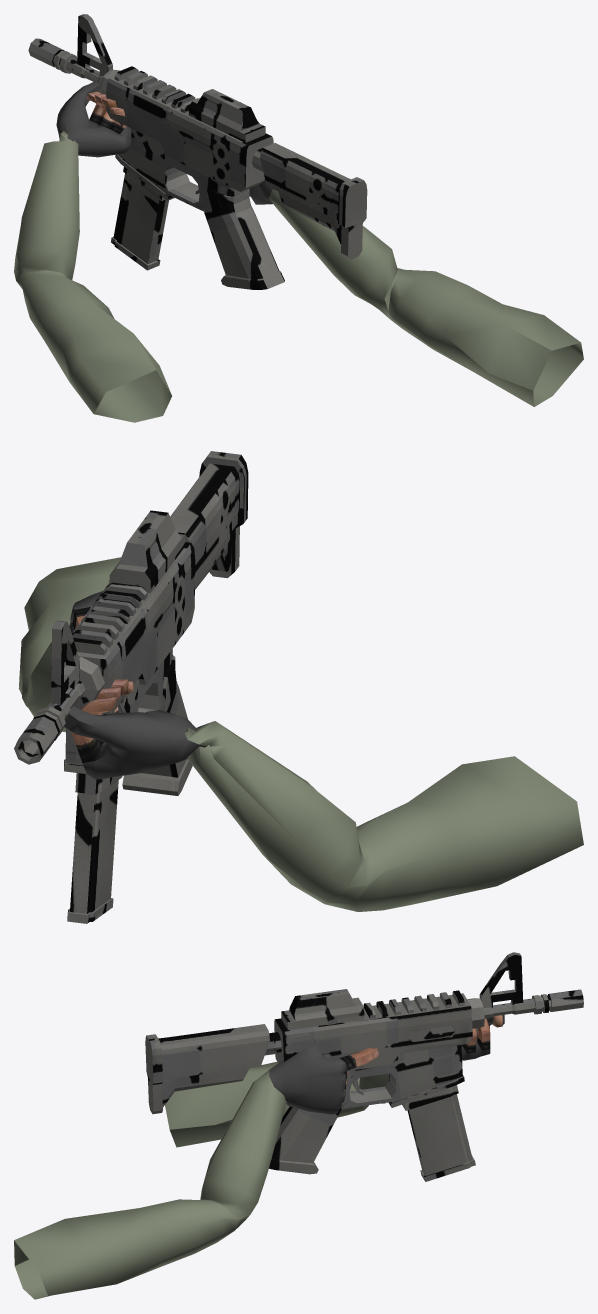
Rendered from gun_m4.glb.
3 views of the same model, one above another, from view 1: azimuth 30°, elevation 25°; view 2: azimuth 150°, elevation 25°; view 3: azimuth 270°, elevation 25° (orthographic). The views are drawn at different scales.
Parts seen in each view (by area): view 1: body_sleeve, body_QUATP, mag_QUATP, body_glove, body_ARMS; view 2: body_sleeve, body_QUATP, body_glove, mag_QUATP, body_ARMS; view 3: body_QUATP, body_sleeve, mag_QUATP, body_glove, body_ARMS.
Part boxes in pixels (x1,y1,x2,y2): body_sleeve: (14, 130, 583, 422); body_QUATP: (28, 14, 367, 289); mag_QUATP: (111, 167, 168, 270); body_glove: (56, 82, 272, 204); body_ARMS: (87, 91, 126, 133); body_sleeve: (18, 557, 583, 911); body_QUATP: (14, 451, 248, 795); body_glove: (64, 591, 206, 779); mag_QUATP: (67, 773, 122, 923); body_ARMS: (71, 607, 134, 762); body_QUATP: (145, 952, 583, 1174); body_sleeve: (14, 1062, 389, 1299); mag_QUATP: (402, 1085, 475, 1181); body_glove: (269, 1014, 504, 1114); body_ARMS: (339, 1015, 502, 1093).
Size of the model in its own units: 77.05 by 44.06 by 93.32.
Materials: 4 (2 with a texture image).
